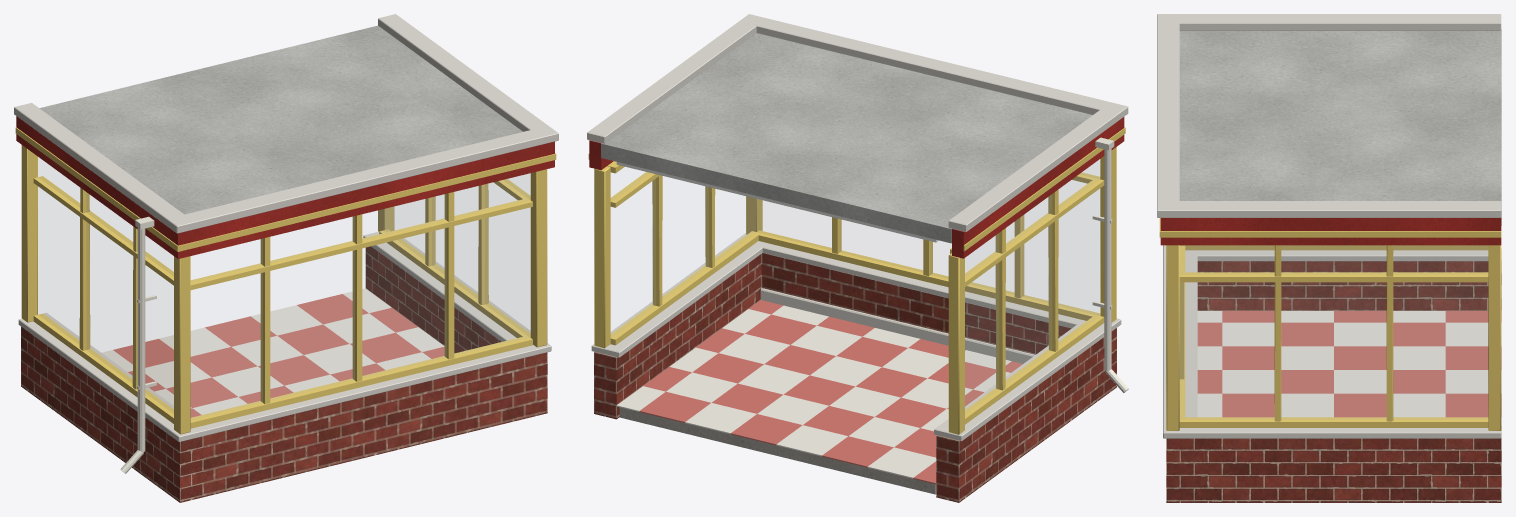
File: annex.glb
The picture shows the model from 3 angles, left to right: view 1: azimuth 30°, elevation 25°; view 2: azimuth 150°, elevation 25°; view 3: azimuth 270°, elevation 25°; orthographic projection. The views are drawn at different scales.
Parts seen in each view (by area): view 1: annex_glass, annex_membrane, annex_brick, annex_accent, annex_cill, annex_red, annex_tile_r, annex_tile_w, annex_gutter; view 2: annex_membrane, annex_glass, annex_brick, annex_accent, annex_cill, annex_tile_w, annex_tile_r, annex_red, annex_concrete, annex_trim, annex_gutter, annex_ceil; view 3: annex_membrane, annex_glass, annex_brick, annex_cill, annex_accent, annex_tile_r, annex_tile_w, annex_red.
Boxes of the visible parts, bbox=[...] form: annex_glass: bbox=[38, 158, 530, 419]; annex_membrane: bbox=[39, 25, 522, 214]; annex_brick: bbox=[21, 246, 547, 502]; annex_accent: bbox=[15, 127, 556, 434]; annex_cill: bbox=[14, 14, 558, 441]; annex_red: bbox=[16, 116, 554, 258]; annex_tile_r: bbox=[113, 294, 444, 417]; annex_tile_w: bbox=[101, 288, 444, 414]; annex_gutter: bbox=[120, 216, 156, 473]; annex_membrane: bbox=[601, 33, 1092, 243]; annex_glass: bbox=[611, 159, 1099, 413]; annex_brick: bbox=[594, 253, 1116, 502]; annex_accent: bbox=[588, 127, 1125, 434]; annex_cill: bbox=[587, 14, 1128, 441]; annex_tile_w: bbox=[616, 305, 1011, 478]; annex_tile_r: bbox=[639, 300, 1022, 484]; annex_red: bbox=[589, 117, 1124, 258]; annex_concrete: bbox=[619, 407, 936, 494]; annex_trim: bbox=[760, 288, 1034, 363]; annex_gutter: bbox=[1092, 137, 1128, 392]; annex_ceil: bbox=[616, 162, 938, 242]; annex_membrane: bbox=[1179, 29, 1501, 225]; annex_glass: bbox=[1180, 246, 1487, 418]; annex_brick: bbox=[1166, 248, 1501, 502]; annex_cill: bbox=[1157, 14, 1501, 438]; annex_accent: bbox=[1159, 218, 1501, 430]; annex_tile_r: bbox=[1197, 311, 1501, 417]; annex_tile_w: bbox=[1197, 311, 1501, 425]; annex_red: bbox=[1160, 218, 1501, 245].
Size of the model in its own units: 4.46 by 2.93 by 3.08.
14 materials, 4 textured.
